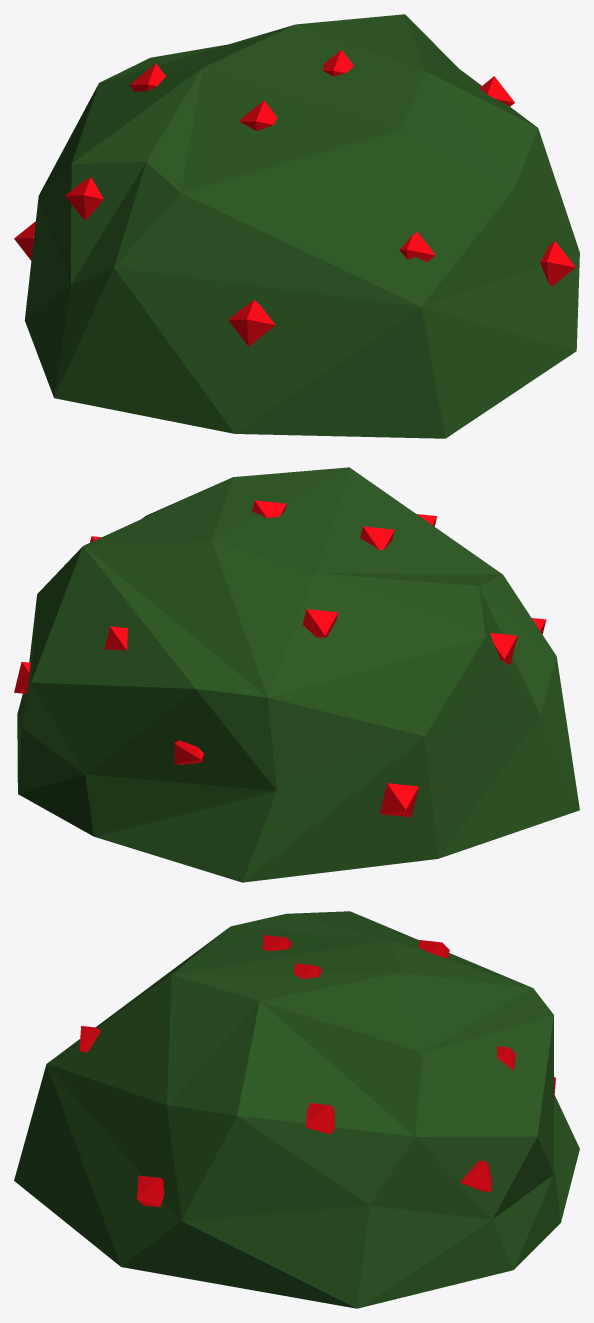
The model's file is Berry Bush 2.glb.
3 views of the same model, one above another, from view 1: azimuth 30°, elevation 25°; view 2: azimuth 150°, elevation 25°; view 3: azimuth 270°, elevation 25° (orthographic). The views are drawn at different scales.
Parts seen in each view (by area): view 1: Berry Bush 2; view 2: Berry Bush 2; view 3: Berry Bush 2.
Part boxes in pixels (x1,y1,x2,y2): Berry Bush 2: (14, 14, 579, 438); Berry Bush 2: (14, 467, 579, 882); Berry Bush 2: (14, 911, 579, 1308).
Size of the model in its own units: 0.5996 by 0.2773 by 0.5891.
